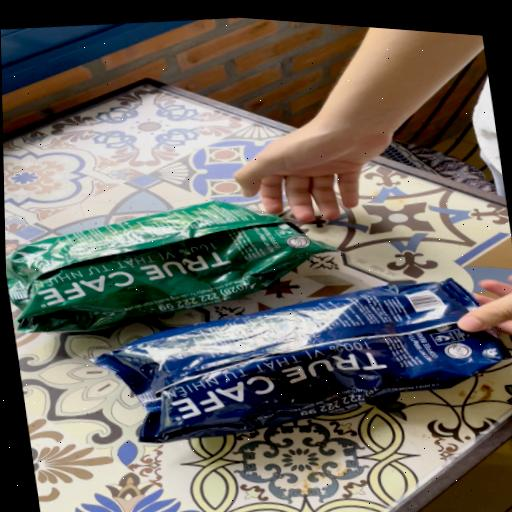cafe_hat: (92, 278, 510, 443)
cafe_xay: (6, 201, 334, 332)
